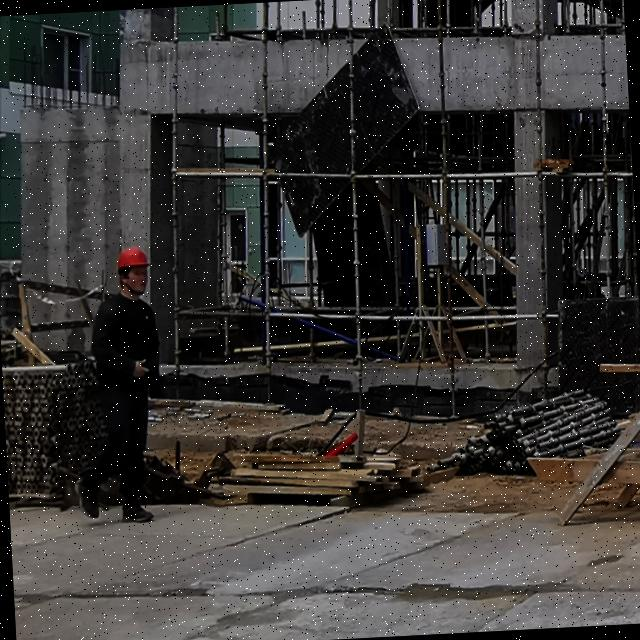Helmet: (117, 248, 153, 300)
NoJacket: (97, 293, 157, 410)
